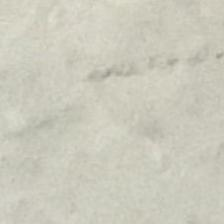Non_Crack: (25, 77, 224, 207)
